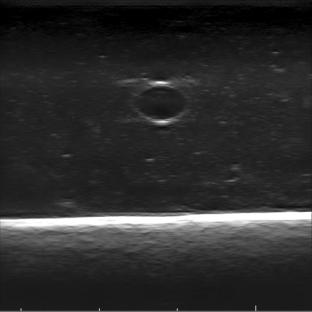vessel: (132, 79, 190, 125)
